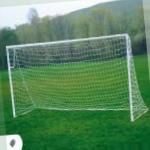goals: (5, 32, 149, 124)
